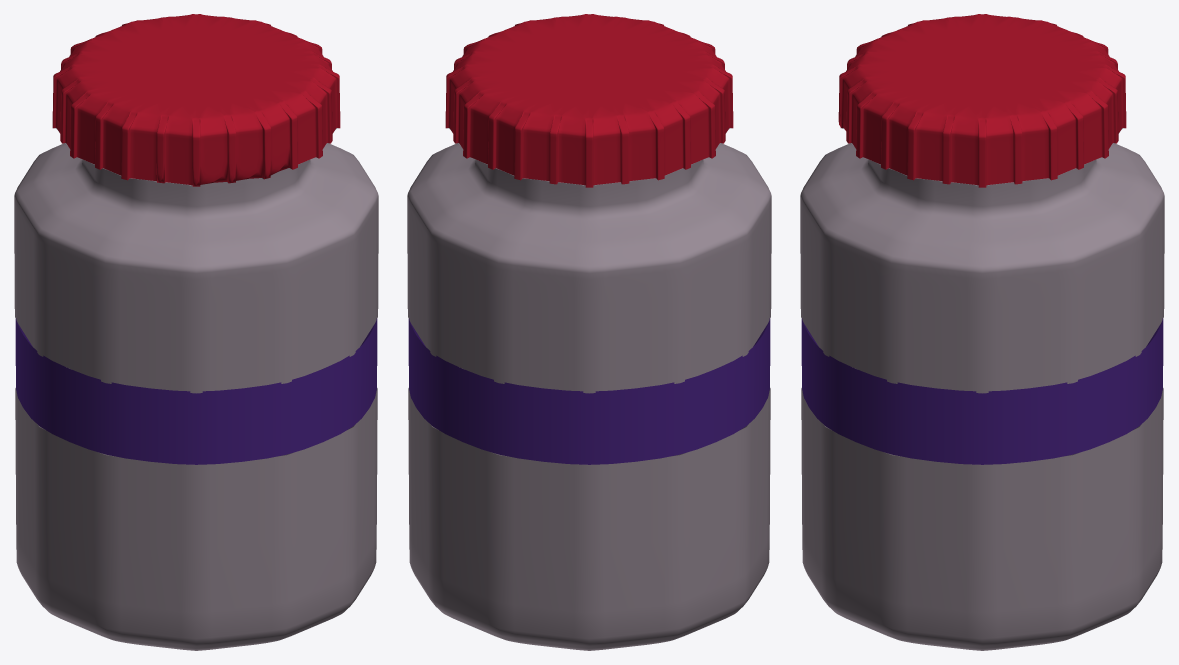
File: MediceRecipient.fbx
3 views of the same model, side by side, from view 1: azimuth 30°, elevation 25°; view 2: azimuth 150°, elevation 25°; view 3: azimuth 270°, elevation 25° (orthographic).
Parts seen in each view (by area): view 1: Recipient, Cover, Brand; view 2: Recipient, Cover, Brand; view 3: Recipient, Cover, Brand.
Boxes of the visible parts, x1,y1,x2,y2 form: Recipient: (14, 128, 378, 650); Cover: (52, 14, 340, 186); Brand: (15, 318, 377, 464); Recipient: (407, 128, 771, 650); Cover: (445, 14, 733, 187); Brand: (408, 318, 770, 464); Recipient: (800, 128, 1164, 650); Cover: (838, 14, 1126, 187); Brand: (801, 318, 1163, 464).
Size of the model in its own units: 1190 by 1901 by 1190.
